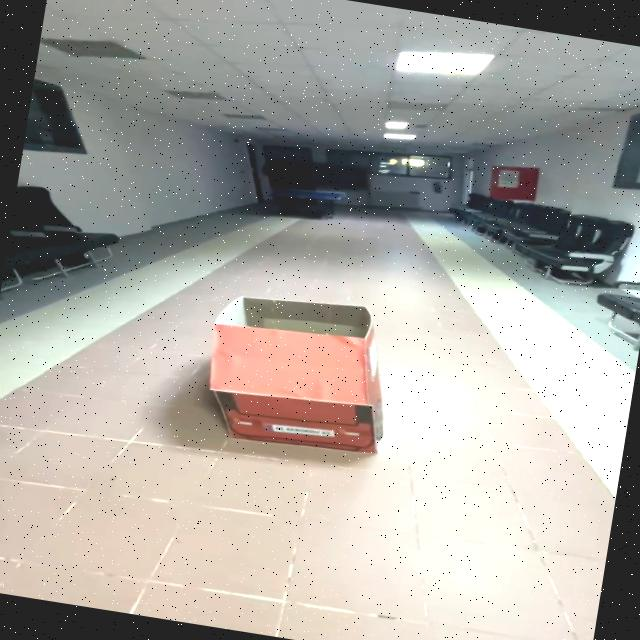red_car: (156, 272, 452, 490)
